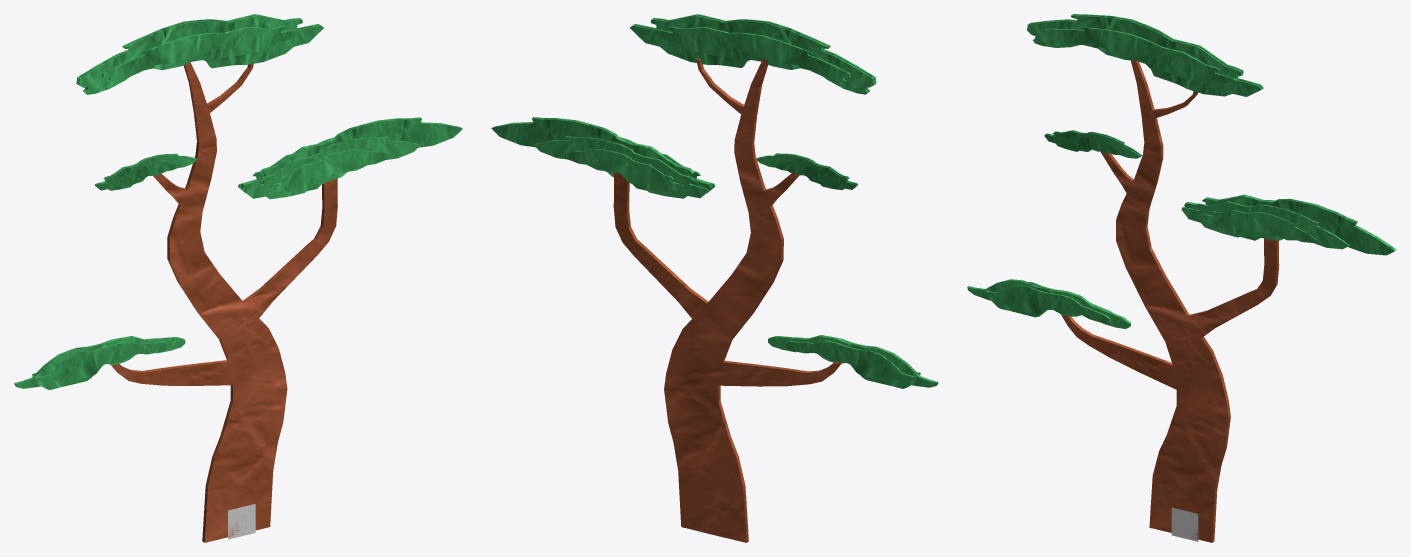
File: arbre1_CI.fbx
3 renders of one model, left to right at view 1: azimuth 30°, elevation 25°; view 2: azimuth 150°, elevation 25°; view 3: azimuth 330°, elevation 25°, orthographic. The views are drawn at different scales.
Visible parts, largest first — view 1: tronc1_CI, feuilles1_CI, Plane; view 2: tronc1_CI, feuilles1_CI; view 3: tronc1_CI, feuilles1_CI, Plane.
Part boxes in pixels (box(x1,y1,x2,y2)): tronc1_CI: box(111, 62, 337, 542); feuilles1_CI: box(14, 14, 462, 389); Plane: box(228, 504, 255, 539); tronc1_CI: box(613, 58, 841, 542); feuilles1_CI: box(491, 14, 938, 388); tronc1_CI: box(1061, 60, 1279, 542); feuilles1_CI: box(967, 14, 1396, 328); Plane: box(1171, 507, 1198, 541).
Bounding box in the file's own units: 143 × 162 × 6.64.
